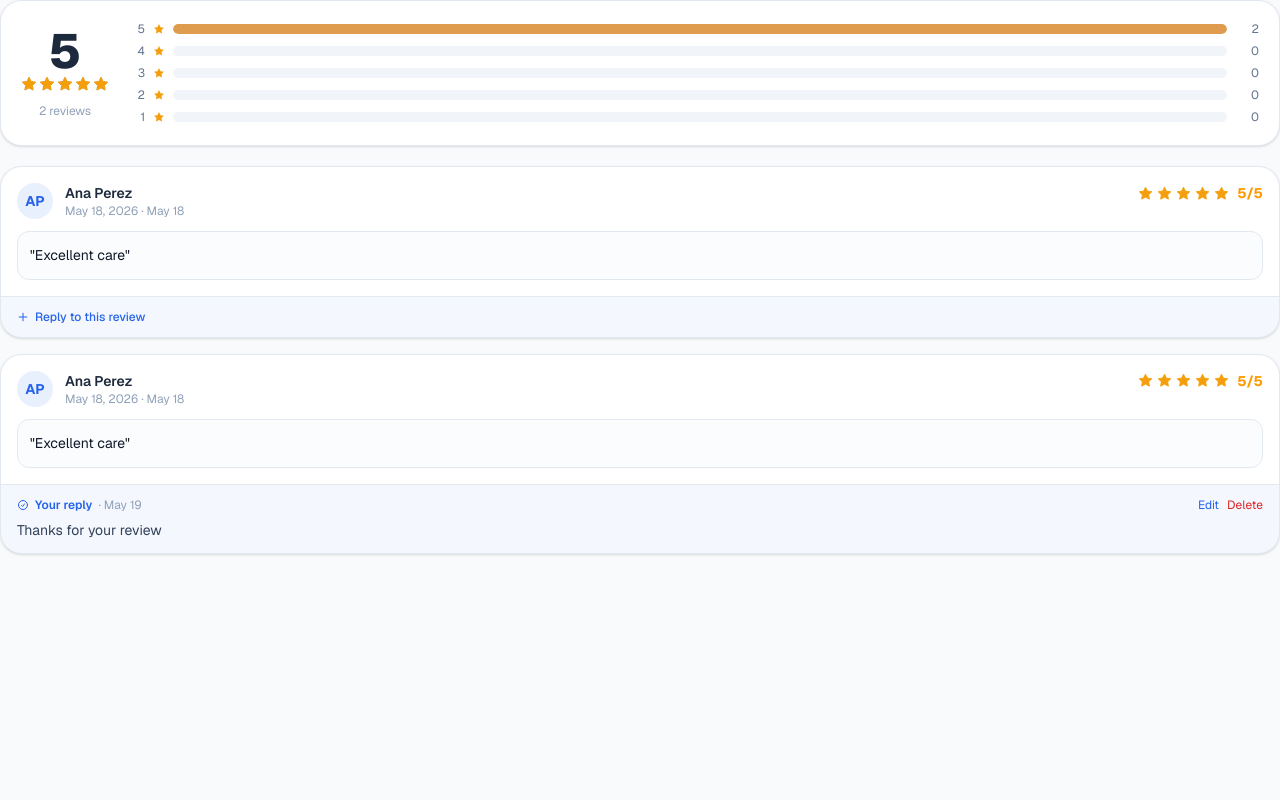
it: ResenasView i18n › uses translated success notice when deleting a reply
The image size is (1280, 800).
Click the button "Delete".
click(1245, 504)  # box x1=1227 y1=496 x2=1263 y2=512
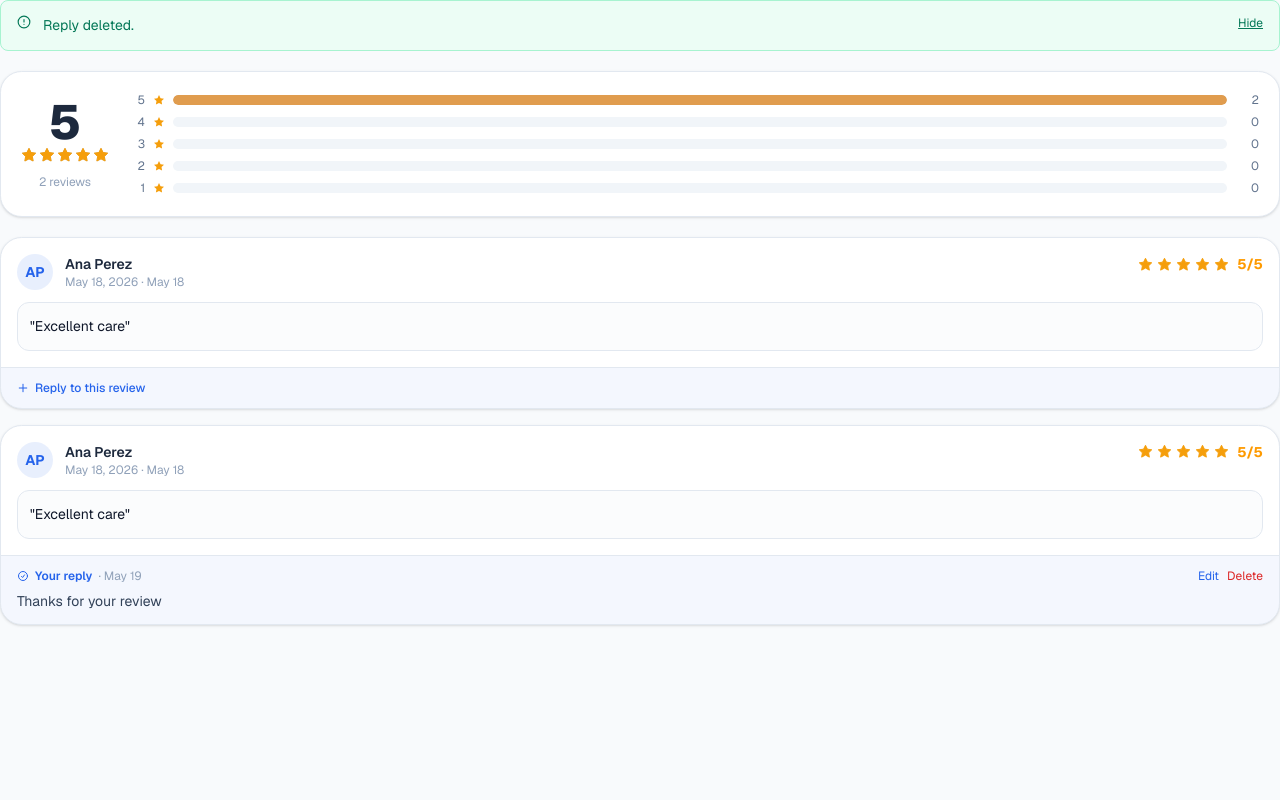
Check: the text "Reply deleted." is shown, box x1=43 y1=15 x2=134 y2=36
